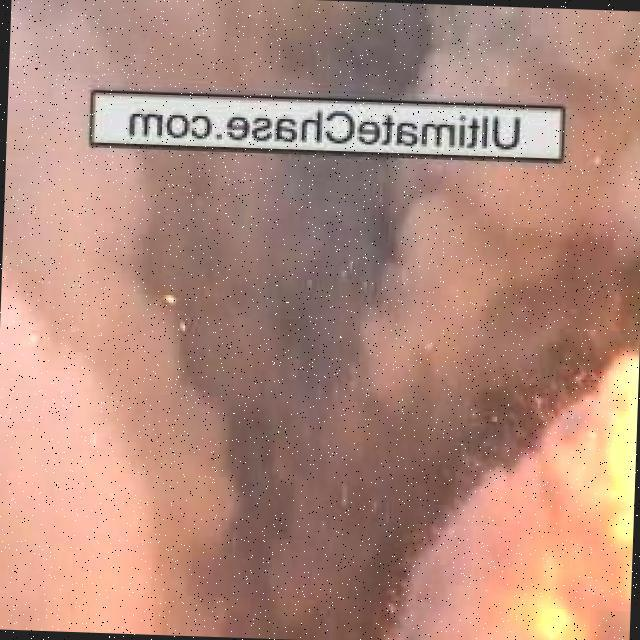Fire: (413, 320, 640, 640)
